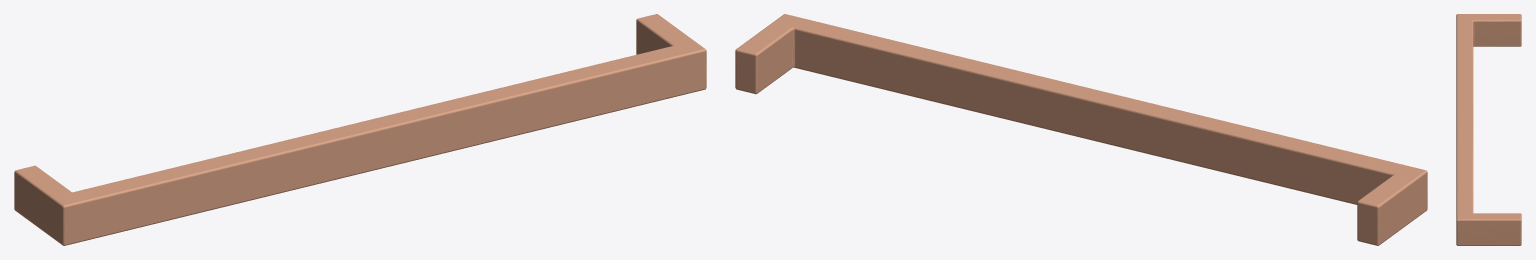
Rendered from eurofit-h-022-224sb-v3.glb.
3 renders of one model, left to right at view 1: azimuth 30°, elevation 25°; view 2: azimuth 150°, elevation 25°; view 3: azimuth 270°, elevation 25°, orthographic. The views are drawn at different scales.
Visible parts, largest first — view 1: Continuous U grip and legs; view 2: Continuous U grip and legs; view 3: Continuous U grip and legs.
Part boxes in pixels (x1,y1,x2,y2): Continuous U grip and legs: [14, 14, 706, 245]; Continuous U grip and legs: [735, 14, 1427, 245]; Continuous U grip and legs: [1456, 14, 1521, 245].
Bounding box in the file's own units: 0.232 × 0.014 × 0.031.
